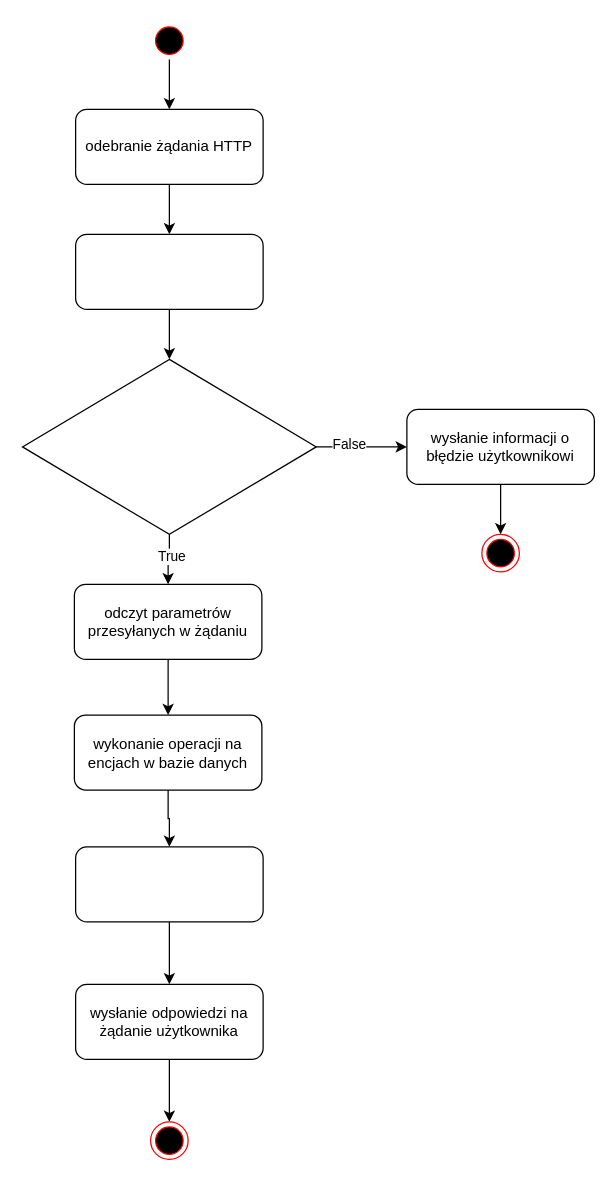
Some shapes in this 616 by 1181 pixel diagram are drawn without their labels. The shapes that lost their labels are listed below. From the top down, each one's box as (x1, y1, x2, y2) in pixels, then its label:
(74, 233, 263, 309): odczyt ciasteczek i weryfikacja użytkownika
(21, 358, 316, 534): Użytkownik autoryzowany?
(74, 846, 263, 922): przygotowanie podstrony HTML lub słownika JSON dla użytkownika
